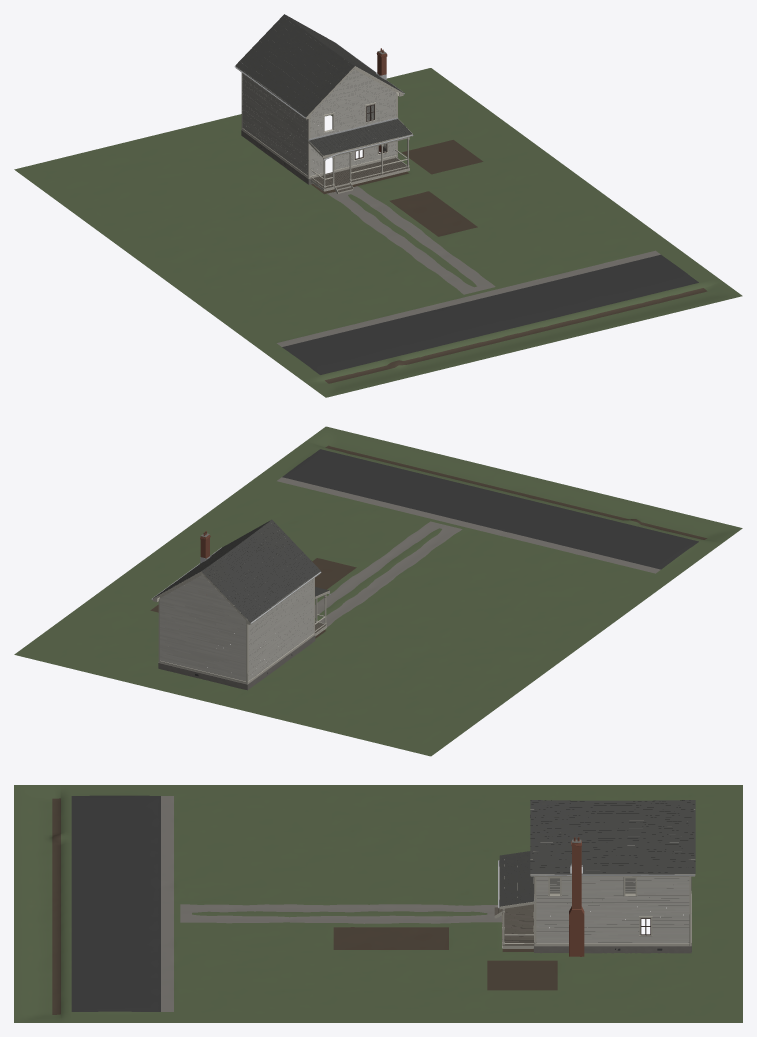
File: house_exterior.glb
3 renders of one model, top to bottom at view 1: azimuth 30°, elevation 25°; view 2: azimuth 150°, elevation 25°; view 3: azimuth 270°, elevation 25°, orthographic. The views are drawn at different scales.
Visible parts, largest first — view 1: EXT2_terrain, EXT2_roof_W, EXT2_siding_S, EXT2_siding_W, EXT2_porch_roof, EXT2_porch, EXT2_trim, EXT2_porch_deck, EXT2_roof_E, EXT2_roof_trim; view 2: EXT2_terrain, EXT2_siding_N, EXT2_roof_W, EXT2_siding_W, EXT2_foundation, EXT2_trim, EXT2_roof_E, EXT2_roof_trim; view 3: EXT2_terrain, EXT2_roof_E, EXT2_siding_E, EXT2_porch_roof, EXT2_chimney, EXT2_trim, EXT2_porch_deck, EXT2_foundation, EXT2_roof_trim, EXT2_porch, EXT2_siding_W.
Boxes of the visible parts, box(x1,y1,x2,y2) form: EXT2_terrain: box(14, 68, 742, 397); EXT2_roof_W: box(235, 14, 354, 116); EXT2_siding_S: box(310, 69, 397, 175); EXT2_siding_W: box(242, 73, 307, 175); EXT2_porch_roof: box(309, 119, 412, 155); EXT2_porch: box(310, 137, 409, 193); EXT2_trim: box(241, 73, 397, 178); EXT2_porch_deck: box(311, 158, 409, 188); EXT2_roof_E: box(286, 15, 403, 92); EXT2_roof_trim: box(234, 42, 404, 119); EXT2_terrain: box(14, 426, 742, 756); EXT2_siding_N: box(159, 575, 245, 681); EXT2_roof_W: box(201, 520, 320, 622); EXT2_siding_W: box(248, 579, 313, 680); EXT2_foundation: box(158, 620, 315, 690); EXT2_trim: box(158, 574, 314, 684); EXT2_roof_E: box(153, 520, 270, 598); EXT2_roof_trim: box(151, 547, 321, 624); EXT2_terrain: box(14, 785, 742, 1022); EXT2_roof_E: box(530, 800, 695, 874); EXT2_siding_E: box(534, 877, 689, 943); EXT2_porch_roof: box(499, 851, 533, 906); EXT2_chimney: box(569, 837, 584, 956); EXT2_trim: box(533, 826, 691, 945); EXT2_porch_deck: box(502, 904, 533, 945); EXT2_foundation: box(533, 897, 691, 953); EXT2_roof_trim: box(530, 809, 695, 876); EXT2_porch: box(494, 905, 533, 948); EXT2_siding_W: box(536, 828, 688, 892).
Size of the model in its own units: 44 by 11.33 by 57.
